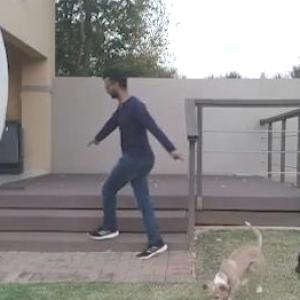land: (81, 59, 222, 264)
